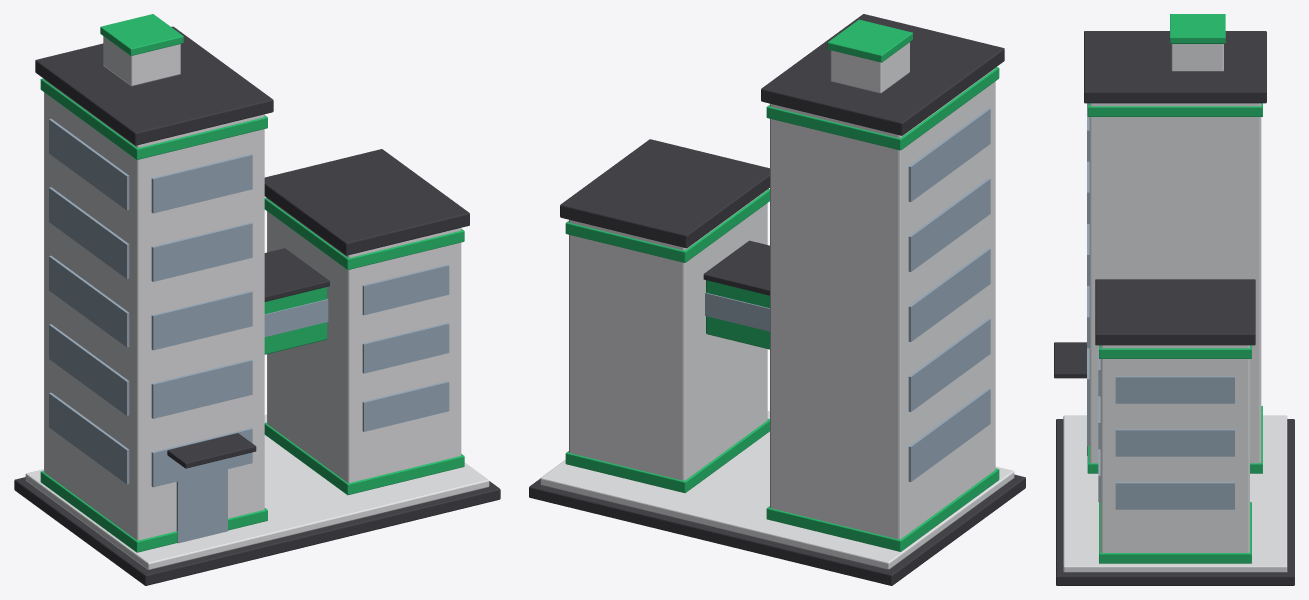
The model's file is twin.glb.
3 renders of one model, left to right at view 1: azimuth 30°, elevation 25°; view 2: azimuth 150°, elevation 25°; view 3: azimuth 270°, elevation 25°, orthographic. The views are drawn at different scales.
Parts seen in each view (by area): view 1: twin; view 2: twin; view 3: twin.
Boxes of the visible parts, box(x1,y1,x2,y2) form: twin: box(14, 14, 500, 585); twin: box(529, 14, 1025, 585); twin: box(1054, 14, 1294, 585).
Size of the model in its own units: 10 by 12.9 by 6.45.
